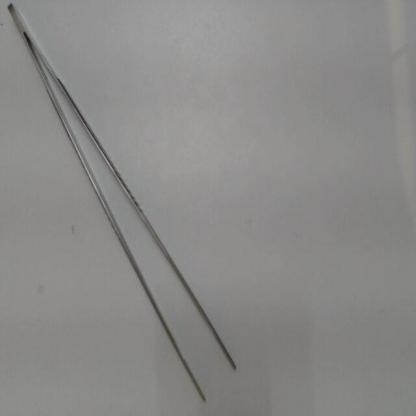DeBakey Dissector: (5, 0, 252, 408)
